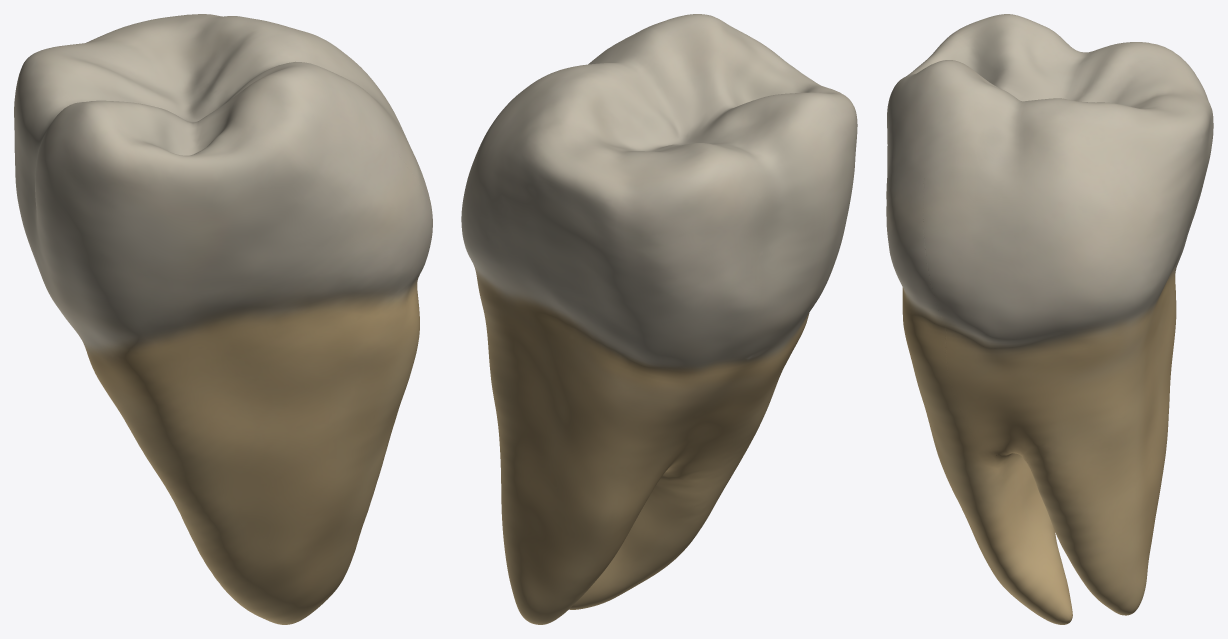
Rendered from mandibular_third_molar.glb.
3 views of the same model, side by side, from view 1: azimuth 30°, elevation 25°; view 2: azimuth 150°, elevation 25°; view 3: azimuth 270°, elevation 25° (orthographic). The views are drawn at different scales.
Visible parts, largest first — view 1: Object_2; view 2: Object_2; view 3: Object_2.
Boxes of the visible parts, <box> form: Object_2: <box>14,14,432,624</box>; Object_2: <box>461,14,857,624</box>; Object_2: <box>886,14,1213,624</box>.
Size of the model in its own units: 0.9727 by 1.53 by 0.8585.
1 material, 1 textured.
